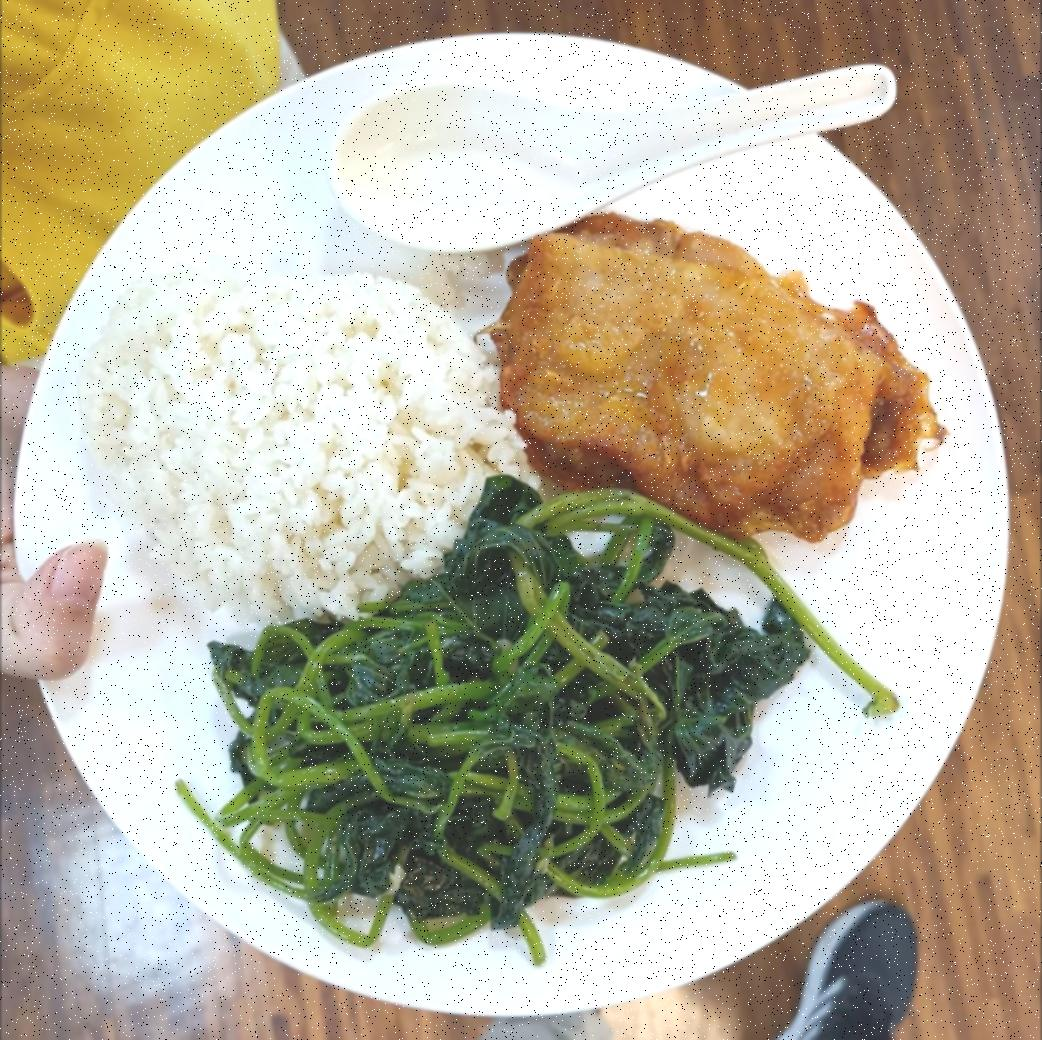grilled chicken leg steak: (496, 212, 941, 543)
plate: (14, 27, 1021, 1015)
side dish: (165, 493, 909, 961)
white rice: (81, 257, 522, 629)
